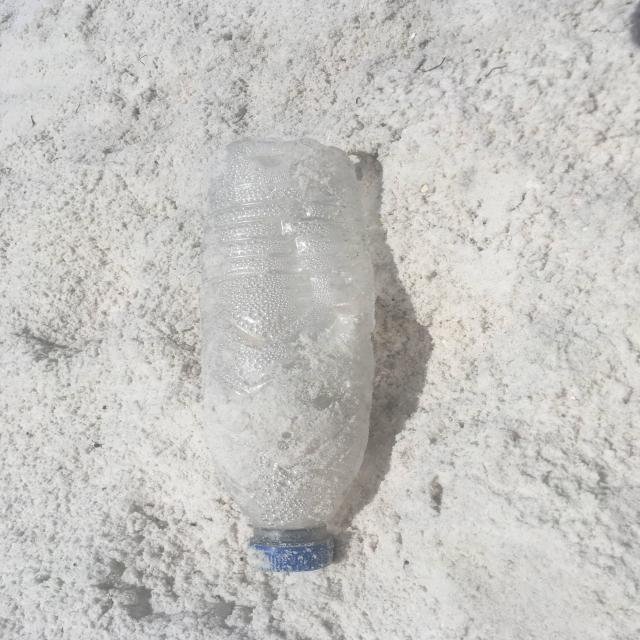litter: (185, 139, 380, 581)
